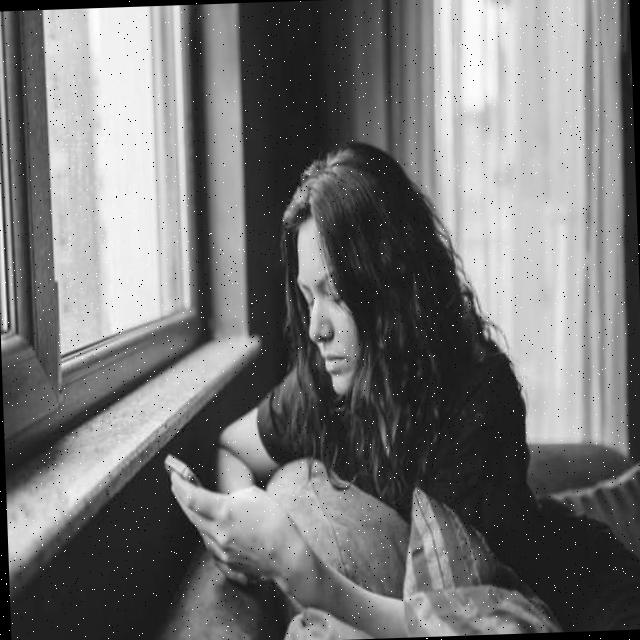Sadness: (289, 208, 366, 400)
